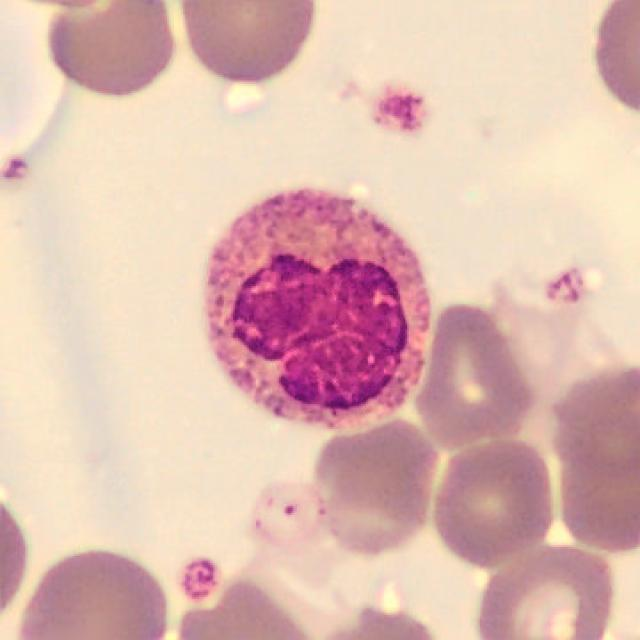Neutrofilo segmentado: (199, 184, 432, 434)
